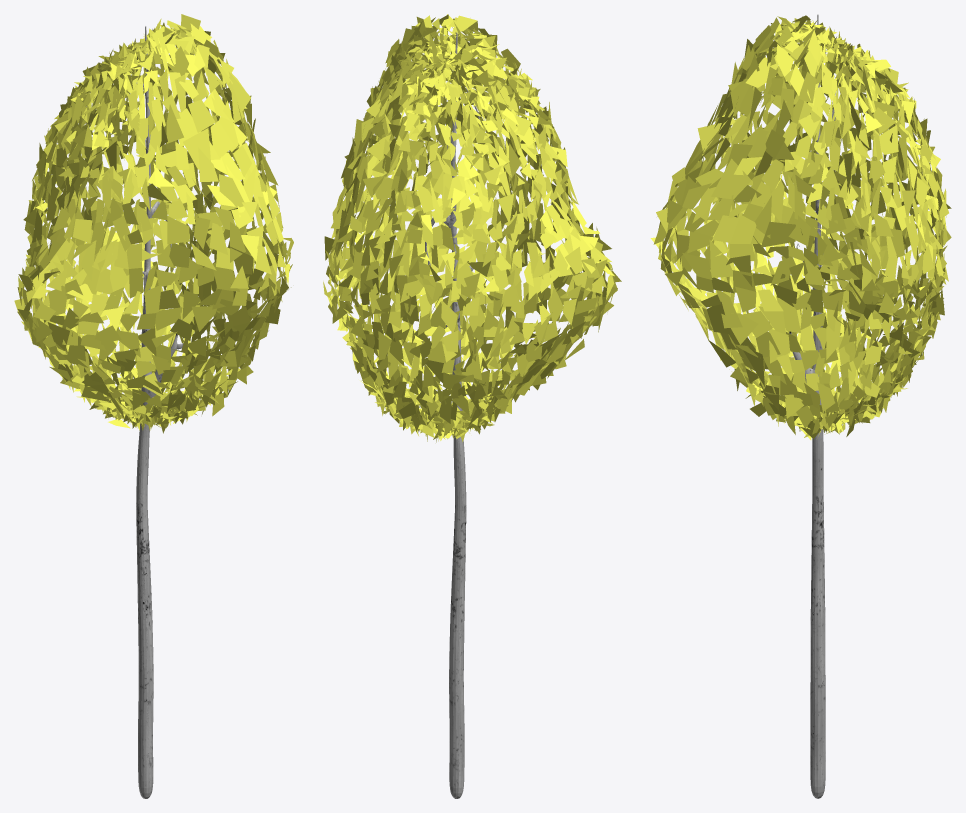
Rendered from Leaves34.fbx.
The picture shows the model from 3 angles, left to right: view 1: azimuth 30°, elevation 25°; view 2: azimuth 150°, elevation 25°; view 3: azimuth 270°, elevation 25°; orthographic projection. The views are drawn at different scales.
Visible parts, largest first — view 1: Leaves34; view 2: Leaves34; view 3: Leaves34.
Part boxes in pixels (x1,y1,x2,y2): Leaves34: (14,14,293,798); Leaves34: (323,14,621,798); Leaves34: (650,14,951,798).
Bounding box in the file's own units: 859 × 2587 × 896.
2 materials, 1 textured.
